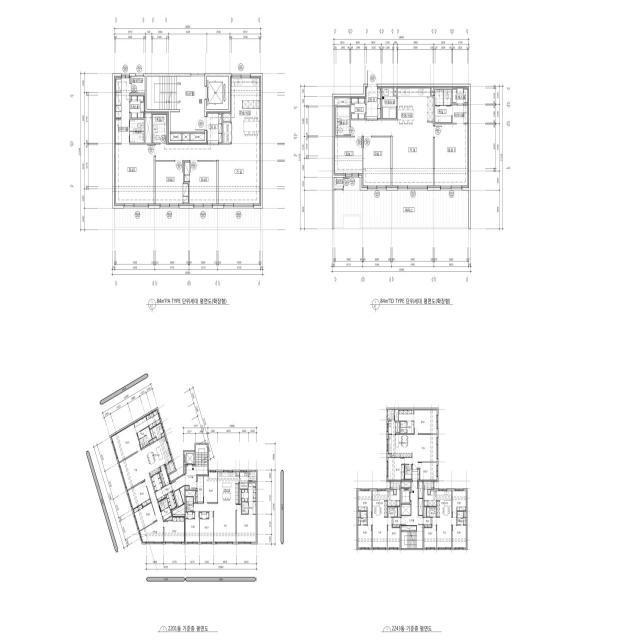space_balconi: (166, 461, 175, 474), (249, 471, 256, 481)
space_bedroom: (114, 145, 154, 205), (435, 124, 469, 188), (362, 137, 391, 188), (156, 161, 189, 205), (184, 161, 217, 205), (111, 423, 141, 462), (334, 137, 362, 175), (237, 504, 256, 543), (127, 481, 151, 509), (133, 503, 156, 531), (164, 517, 185, 543), (414, 410, 437, 433), (200, 512, 213, 543), (204, 471, 217, 502), (186, 512, 199, 543), (358, 491, 372, 517), (452, 491, 466, 517), (388, 458, 404, 480), (418, 462, 437, 480), (452, 525, 466, 547), (358, 525, 372, 547), (424, 525, 437, 547), (388, 525, 400, 547), (200, 512, 209, 518), (186, 512, 194, 518)
space_dressroom: (114, 76, 131, 118), (130, 94, 145, 118), (146, 409, 161, 429), (453, 105, 469, 123), (453, 87, 469, 104), (399, 410, 414, 421), (249, 483, 256, 501), (242, 490, 248, 501)
space_elevator: (208, 76, 228, 109), (184, 452, 195, 465), (401, 489, 410, 503)
space_elevator_hall: (171, 434, 207, 491), (170, 76, 206, 132), (401, 482, 423, 531)
space_front: (365, 87, 381, 119), (207, 112, 222, 143), (351, 97, 365, 119), (155, 483, 172, 501), (151, 473, 163, 491), (166, 491, 177, 510), (196, 476, 203, 503), (412, 469, 419, 480), (424, 518, 432, 527), (393, 518, 400, 527)
space_kitchen: (230, 76, 261, 145), (398, 87, 433, 123), (142, 436, 172, 476), (424, 490, 452, 518), (373, 490, 400, 518), (218, 471, 239, 504), (388, 435, 412, 457)
space_living_room: (156, 143, 261, 205), (351, 120, 433, 188), (119, 450, 163, 543), (194, 504, 236, 543), (405, 435, 437, 469), (368, 518, 392, 548), (432, 518, 456, 547)
space_multipurpose_space: (382, 87, 396, 118)
space_other: (159, 465, 170, 487), (150, 423, 164, 440), (145, 112, 151, 143), (223, 122, 231, 143), (388, 420, 400, 434), (240, 471, 249, 489), (174, 489, 183, 507), (173, 504, 185, 515), (334, 97, 350, 105), (186, 490, 195, 502), (190, 133, 205, 140), (401, 505, 411, 515), (180, 486, 185, 503), (418, 482, 423, 498), (418, 499, 423, 515), (170, 134, 181, 140), (223, 112, 230, 121), (401, 526, 416, 530), (401, 482, 411, 487), (149, 437, 157, 443), (182, 134, 189, 140), (165, 516, 172, 520), (394, 87, 397, 95), (431, 87, 434, 95), (396, 410, 398, 421), (424, 507, 426, 517), (398, 507, 400, 517), (184, 466, 186, 474), (161, 433, 165, 437), (236, 471, 239, 476), (240, 490, 241, 504), (358, 511, 360, 517), (185, 486, 189, 489), (464, 511, 466, 517), (388, 454, 391, 457), (428, 491, 430, 494), (394, 491, 396, 494)
space_outdoor_room: (132, 76, 145, 90), (334, 178, 343, 189), (388, 409, 395, 420), (424, 482, 433, 489), (391, 482, 400, 489)
space_staircase: (147, 76, 180, 109), (401, 531, 423, 548), (201, 444, 207, 466)
space_toilet: (115, 120, 144, 143), (336, 107, 350, 135), (153, 114, 166, 143), (137, 427, 152, 448), (435, 106, 452, 122), (134, 416, 148, 433), (400, 421, 414, 433), (443, 89, 452, 105), (161, 507, 172, 520), (435, 90, 443, 105), (457, 512, 466, 525), (358, 512, 367, 524), (186, 497, 193, 511), (405, 465, 412, 479), (427, 507, 436, 517), (388, 507, 397, 517), (249, 502, 256, 514), (163, 498, 169, 509), (159, 500, 165, 511), (242, 502, 248, 508), (242, 508, 248, 514)
